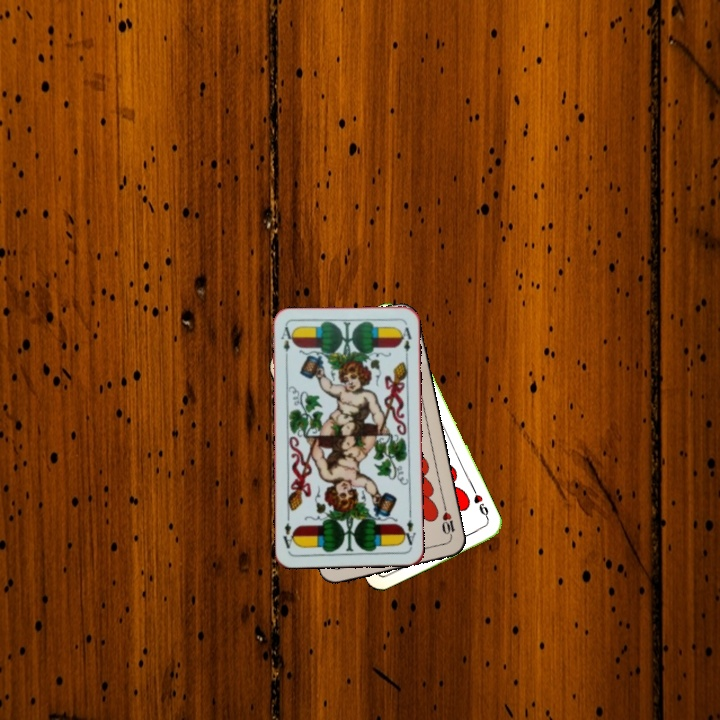EA: (399, 509, 418, 550), (277, 323, 295, 363)
H10: (438, 501, 457, 542)
H9: (469, 485, 492, 524)
